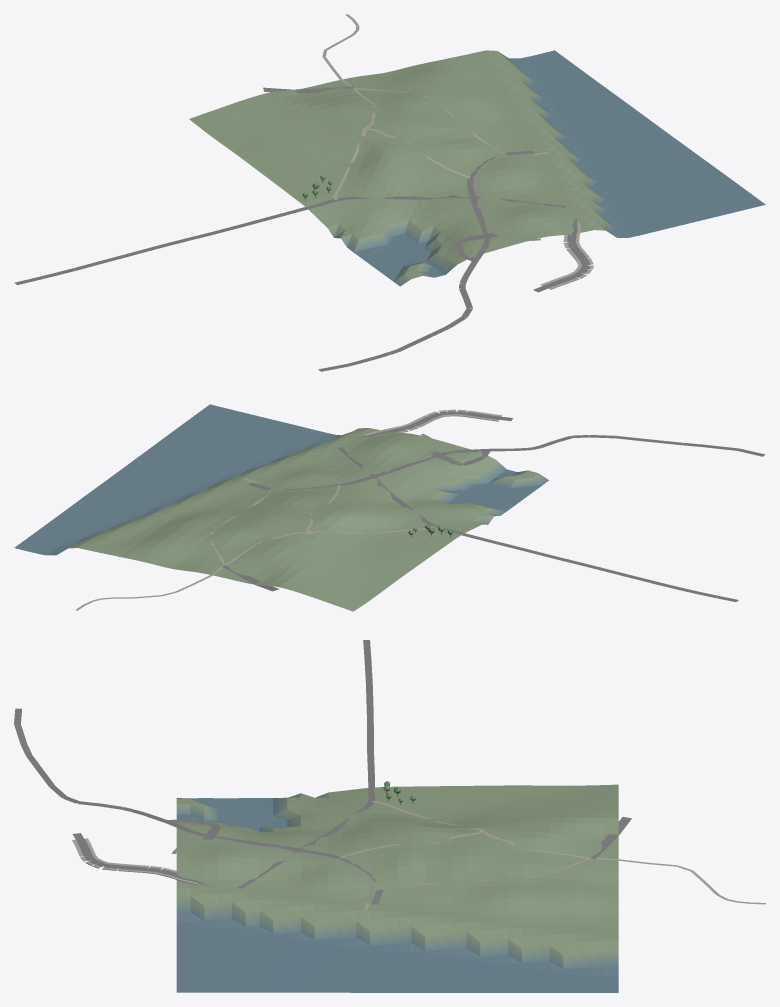
Rendered from tile_6_-3.glb.
The picture shows the model from 3 angles, top to bottom: view 1: azimuth 30°, elevation 25°; view 2: azimuth 150°, elevation 25°; view 3: azimuth 270°, elevation 25°; orthographic projection. The views are drawn at different scales.
Parts seen in each view (by area): view 1: terrain, roads, paths, sidewalks; view 2: terrain, roads, paths, sidewalks; view 3: terrain, roads, paths, sidewalks.
Part boxes in pixels (bbox=[...]): terrain: bbox=[189, 50, 765, 286]; roads: bbox=[14, 86, 590, 371]; paths: bbox=[322, 14, 549, 241]; sidewalks: bbox=[540, 223, 593, 289]; terrain: bbox=[14, 404, 549, 611]; roads: bbox=[222, 411, 765, 601]; paths: bbox=[75, 433, 436, 610]; sidewalks: bbox=[365, 409, 502, 435]; terrain: bbox=[176, 784, 618, 992]; roads: bbox=[14, 640, 631, 904]; paths: bbox=[171, 800, 765, 910]; sidewalks: bbox=[72, 838, 197, 884].
Size of the model in its own units: 462 by 20.86 by 436.
